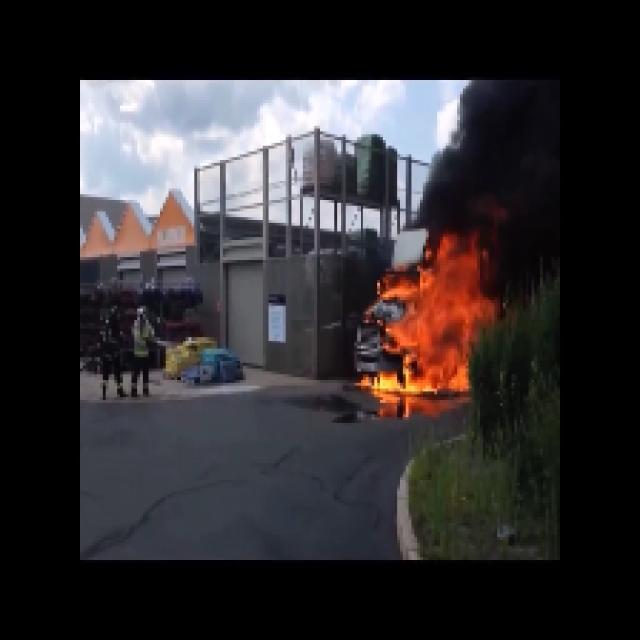fire: (384, 265, 485, 397)
smoke: (456, 90, 563, 254)
